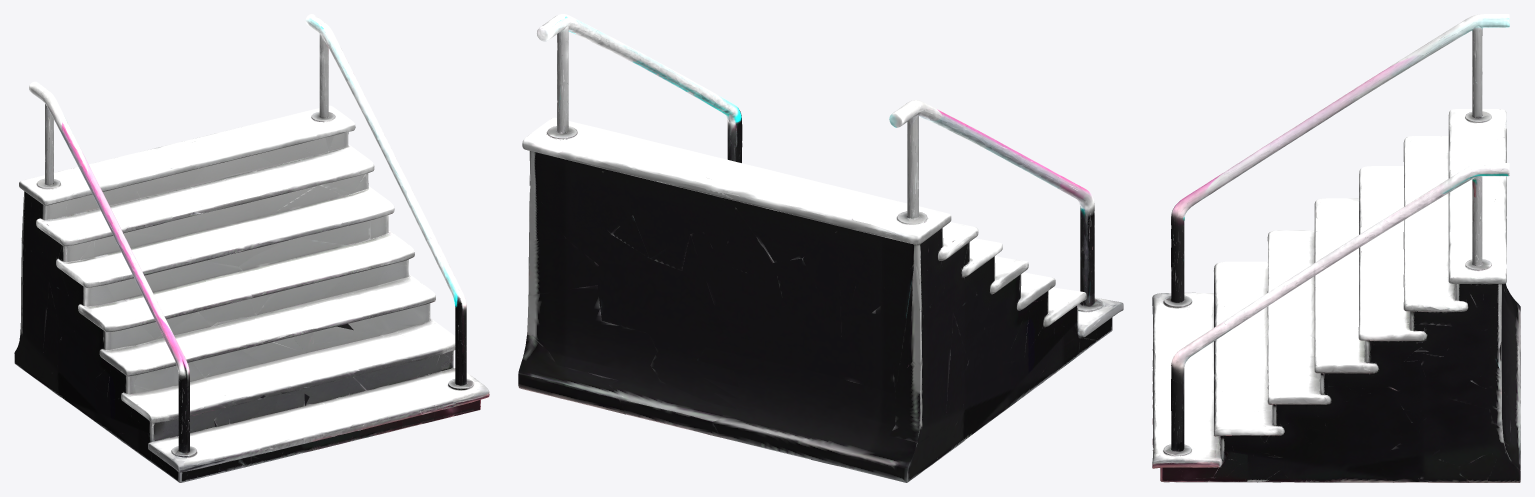
Rendered from prop_rail-mesh.glb.
3 renders of one model, left to right at view 1: azimuth 30°, elevation 25°; view 2: azimuth 150°, elevation 25°; view 3: azimuth 270°, elevation 25°, orthographic. The views are drawn at different scales.
Parts seen in each view (by area): view 1: Mesh_0; view 2: Mesh_0; view 3: Mesh_0.
Part boxes in pixels (x1,y1,x2,y2): Mesh_0: (14,14,489,482); Mesh_0: (518,14,1123,482); Mesh_0: (1152,14,1520,482).
Bounding box in the file's own units: 1.9 × 1.64 × 1.75.
1 material, 1 textured.
